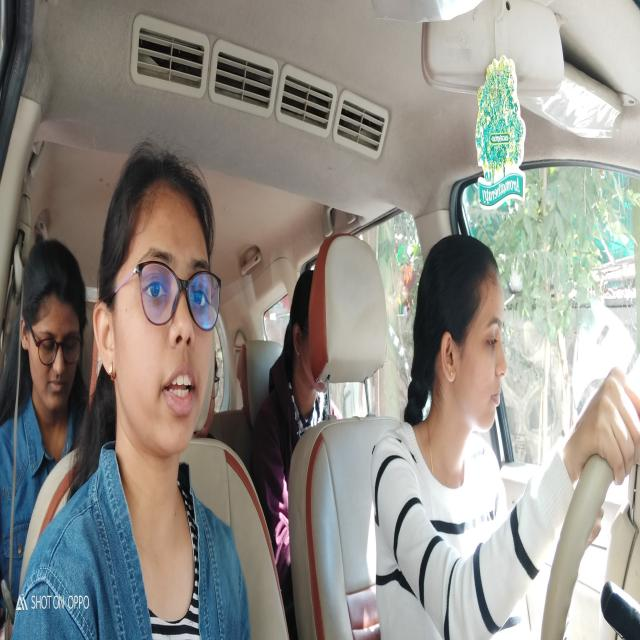person: (116, 150, 212, 454), (424, 237, 505, 444), (23, 255, 80, 410), (294, 281, 314, 410)
